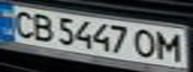4: (90, 21, 112, 53), (72, 19, 93, 51)
5: (51, 16, 78, 47)
7: (109, 24, 133, 55)
B: (27, 11, 57, 43)
C: (6, 7, 39, 39)
M: (154, 29, 187, 62)
O: (130, 27, 160, 58)
